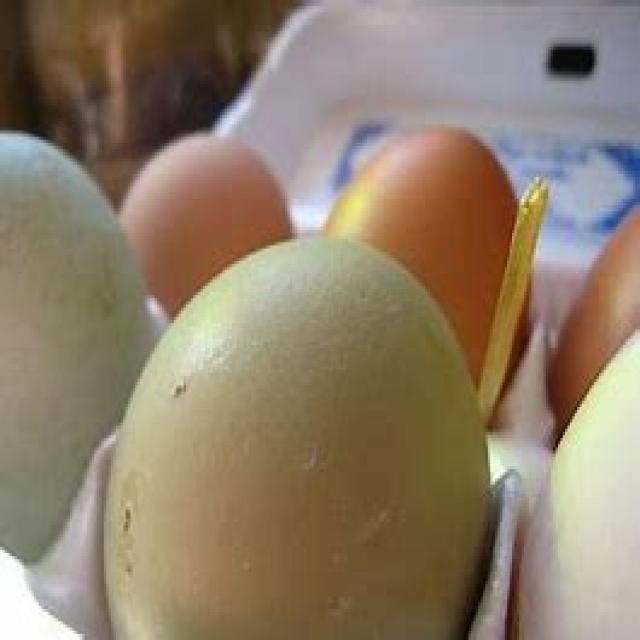Calcium Deposit Egg: (78, 211, 490, 640), (6, 125, 130, 576)
